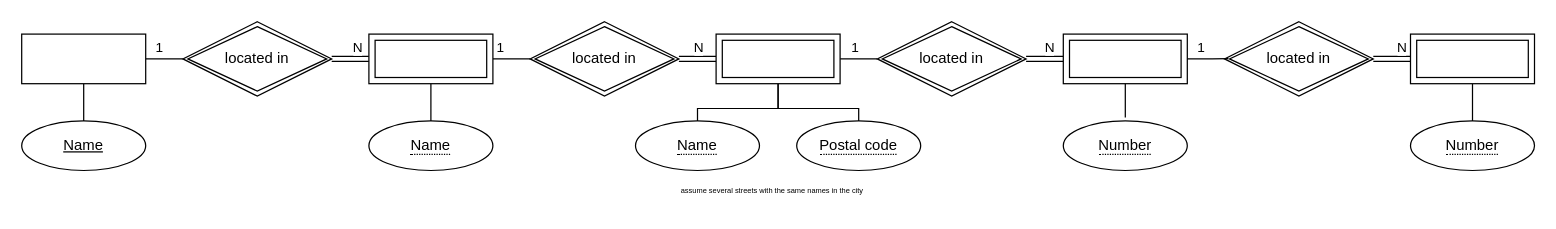
Image size: 1556x229. Some labels were removed from this diagram. Here are the shapes that lost their labels. From the top down, the box of each, then its label:
(20, 33, 146, 84): Country
(368, 33, 493, 84): City
(715, 33, 840, 84): Street
(1062, 33, 1187, 84): Buildings
(1409, 33, 1534, 84): Rooms
